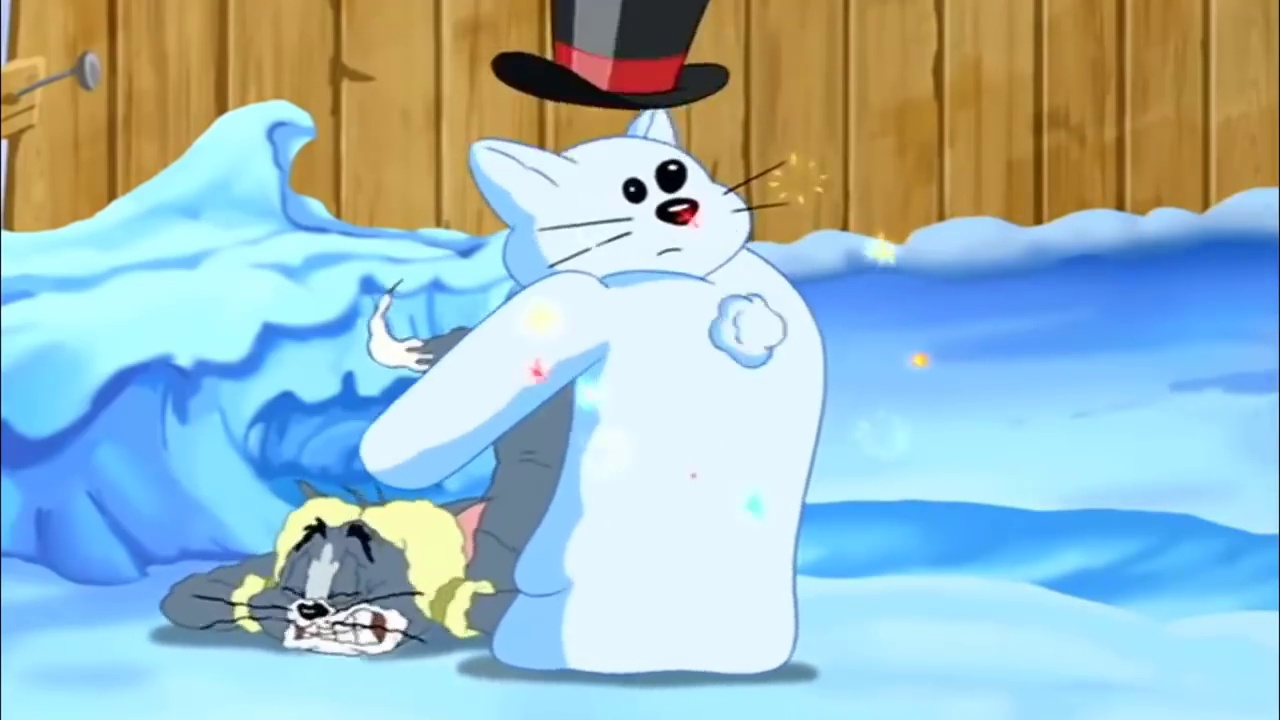face: (262, 519, 407, 658)
